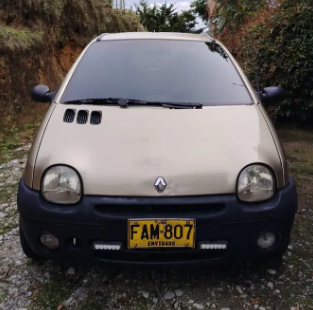placa: (127, 218, 196, 249)
